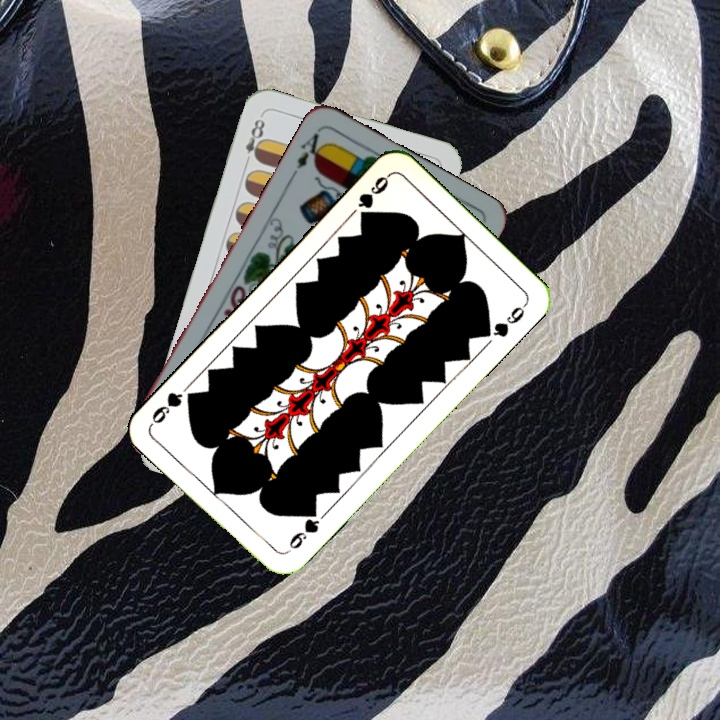E8: (240, 114, 268, 169)
EA: (292, 126, 329, 172)
G9: (282, 503, 328, 556), (353, 170, 393, 224)
